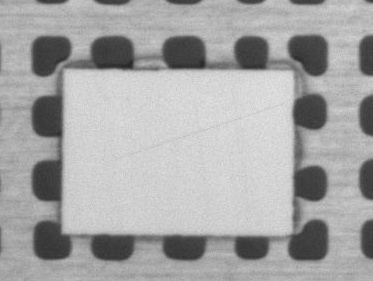DIE_CRACK: (153, 78, 373, 120)
